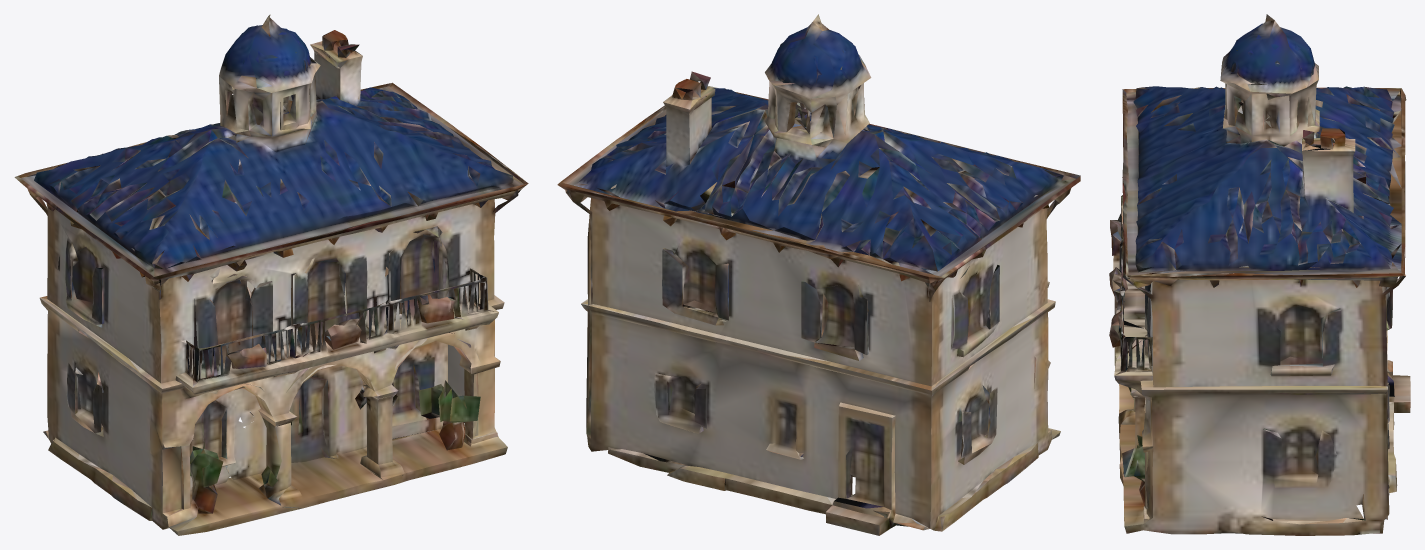
File: hotel_2.glb
The picture shows the model from 3 angles, left to right: view 1: azimuth 30°, elevation 25°; view 2: azimuth 150°, elevation 25°; view 3: azimuth 270°, elevation 25°; orthographic projection.
Parts seen in each view (by area): view 1: harbor__hotel_2__neural_lod; view 2: harbor__hotel_2__neural_lod; view 3: harbor__hotel_2__neural_lod.
Boxes of the visible parts, bbox=[...] form: harbor__hotel_2__neural_lod: bbox=[14, 14, 528, 535]; harbor__hotel_2__neural_lod: bbox=[557, 14, 1080, 535]; harbor__hotel_2__neural_lod: bbox=[1109, 14, 1410, 535].
Bounding box in the file's own units: 0.9168 × 0.9927 × 0.6178.
1 material, 1 textured.
